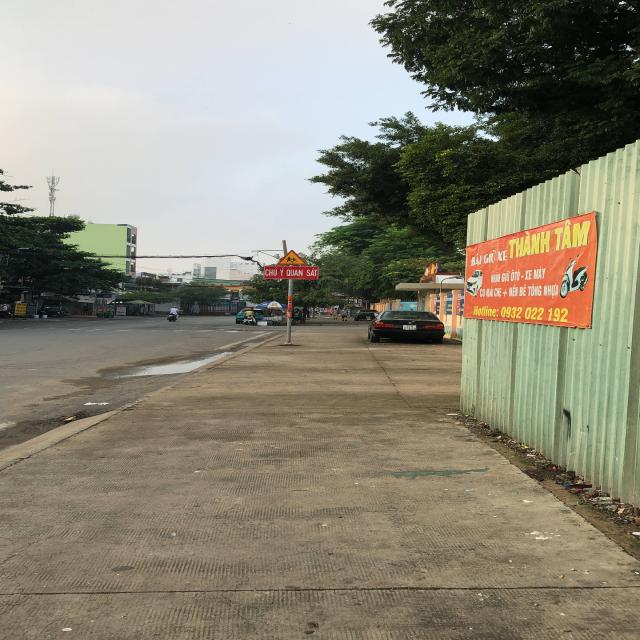Bien bao tre em: (273, 250, 310, 266)
